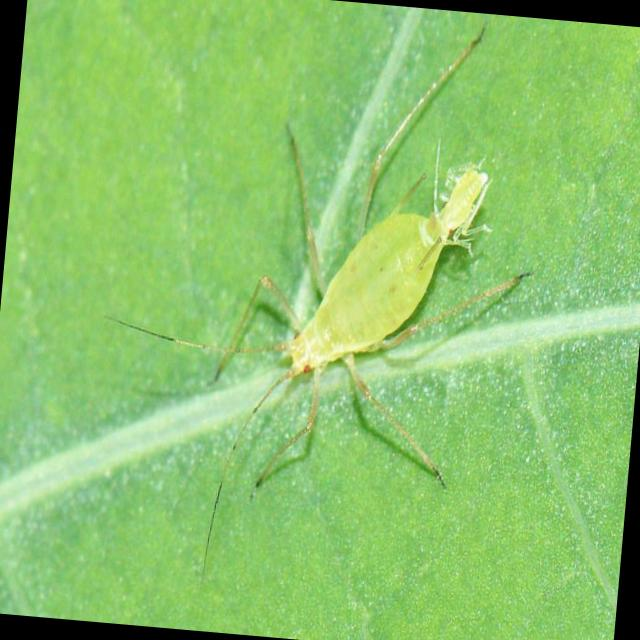Aphid: (146, 104, 557, 524), (428, 137, 501, 259)
